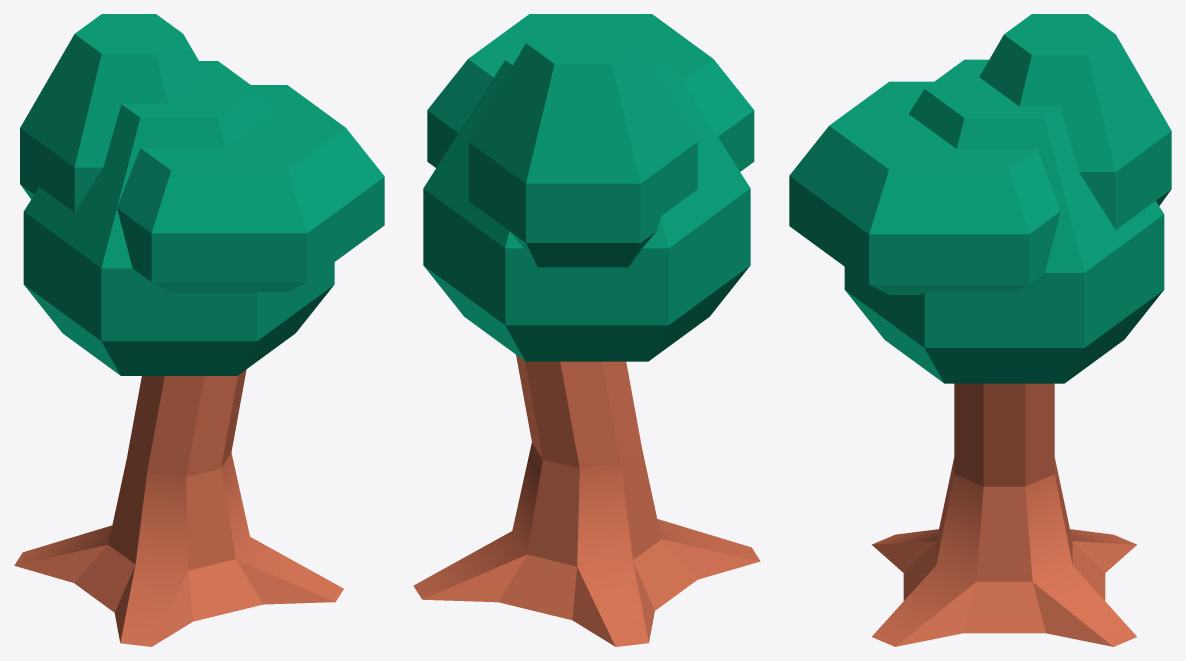
The model's file is Tree1.fbx.
The picture shows the model from 3 angles, left to right: view 1: azimuth 30°, elevation 25°; view 2: azimuth 150°, elevation 25°; view 3: azimuth 270°, elevation 25°; orthographic projection. The views are drawn at different scales.
Parts seen in each view (by area): view 1: mergedBlocks; view 2: mergedBlocks; view 3: mergedBlocks.
Part boxes in pixels (x1,y1,x2,y2): mergedBlocks: [14, 14, 384, 646]; mergedBlocks: [413, 14, 760, 646]; mergedBlocks: [789, 14, 1171, 646].
Size of the model in its own units: 11 by 21.7 by 13.81.
